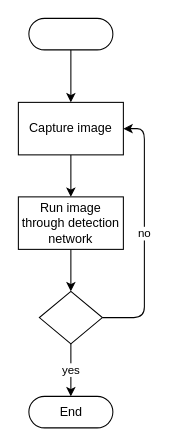
This 171x446 diagram has some shape labels left out. The centre of each missing label's shape, as x and y in pixels:
Dart?: [70,317]
Start: [70,33]
